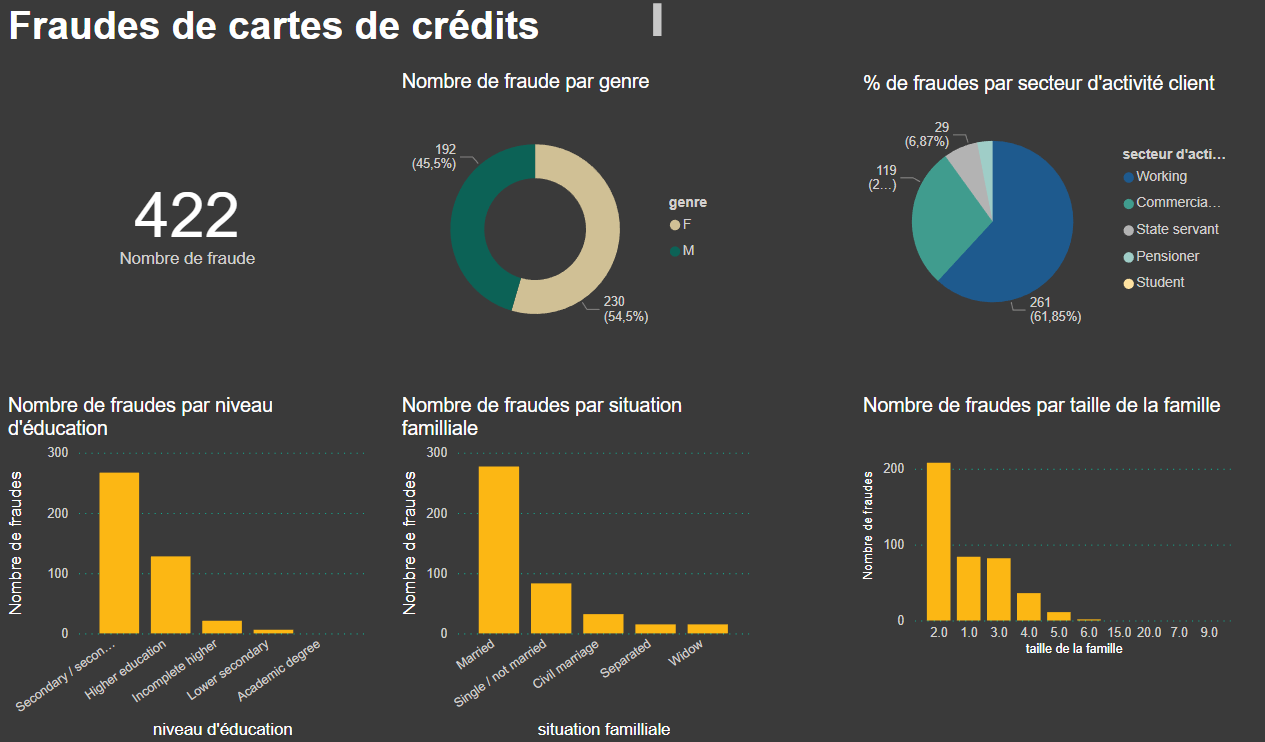

This screenshot's page, from the dashboard's own definition file:
{"tool":"powerbi","page":{"name":"Page 1","canvas":[1280,720],"ordinal":0},"visuals":[{"type":"card","fields":{"Values":["Sum(data (2).TARGET)"]},"box":[8.3,80.9,351.1,279.7],"z":0},{"type":"donutChart","fields":{"Y":["Sum(data (2).TARGET)"],"Category":["data (2).GENDER"]},"box":[383.2,79.7,321.3,280.9],"z":1},{"type":"columnChart","fields":{"Y":["Sum(data (2).TARGET)"],"Category":["data (2).EDUCATION"]},"box":[8.3,388,351.1,332],"z":2},{"type":"columnChart","fields":{"Y":["Sum(data (2).TARGET)"],"Category":["data (2).TP_FAMILY"]},"box":[383.2,388,341.6,332],"z":3},{"type":"columnChart","fields":{"Y":["Sum(data (2).TARGET)"],"Category":["data (2).FAM_SIZE"]},"box":[822.3,388,363,253.5],"z":4},{"type":"pieChart","fields":{"Category":["data (2).INCOME_TP"],"Y":["Sum(data (2).TARGET)"]},"box":[822.3,80.9,363,264.2],"z":5},{"type":"textbox","box":[8.3,10.7,631.9,46.4],"z":6}]}

Visuals, with their boxes on the page's 1280x720 design canvas (x1, y1, x2, y2). These are canvas units, not pixel positions in the 1265x742 screenshot, which may show the page scaled, cropped or inside an application window:
card - Sum(data (2).TARGET): rect(8, 81, 359, 361)
donutChart - Sum(data (2).TARGET) x data (2).GENDER: rect(383, 80, 704, 361)
columnChart - Sum(data (2).TARGET) x data (2).EDUCATION: rect(8, 388, 359, 720)
columnChart - Sum(data (2).TARGET) x data (2).TP_FAMILY: rect(383, 388, 725, 720)
columnChart - Sum(data (2).TARGET) x data (2).FAM_SIZE: rect(822, 388, 1185, 642)
pieChart - data (2).INCOME_TP x Sum(data (2).TARGET): rect(822, 81, 1185, 345)
textbox: rect(8, 11, 640, 57)
